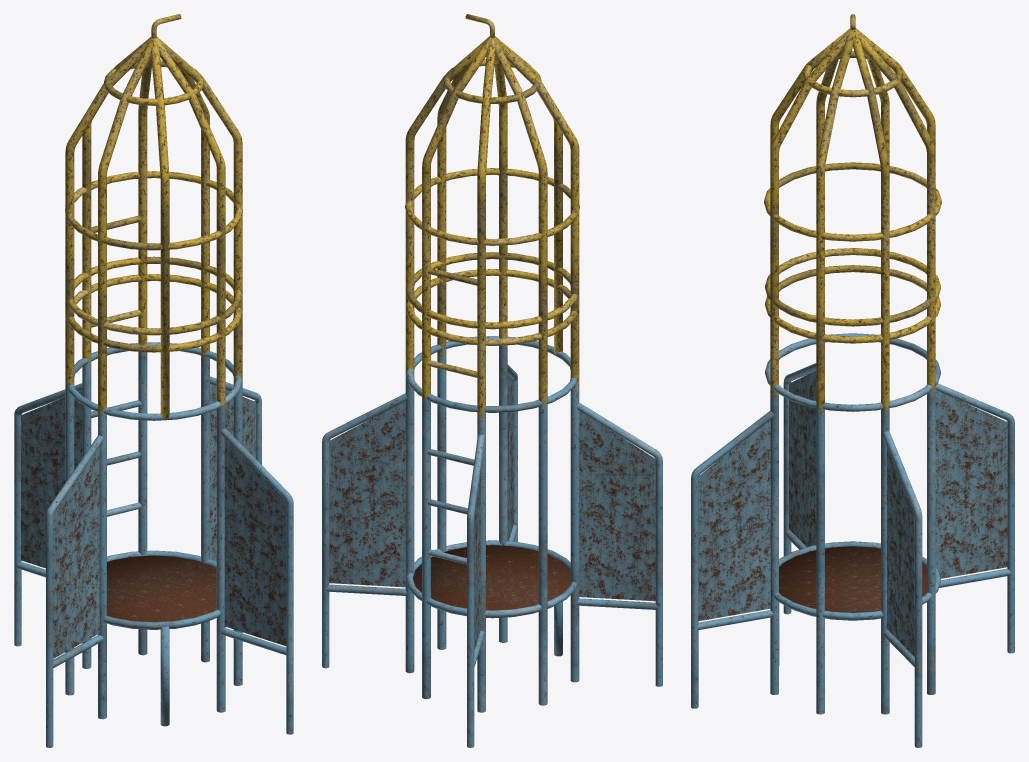
File: playground_rocket_web.glb
The picture shows the model from 3 angles, left to right: view 1: azimuth 30°, elevation 25°; view 2: azimuth 150°, elevation 25°; view 3: azimuth 270°, elevation 25°; orthographic projection.
Visible parts, largest first — view 1: Rocket_Mesh; view 2: Rocket_Mesh; view 3: Rocket_Mesh.
Part boxes in pixels (x1=…): Rocket_Mesh: x1=14, y1=14, x2=293, y2=747; Rocket_Mesh: x1=322, y1=14, x2=662, y2=747; Rocket_Mesh: x1=691, y1=14, x2=1014, y2=747.
Bounding box in the file's own units: 1.72 × 3.91 × 1.72.
Materials: 4 (4 with a texture image).
